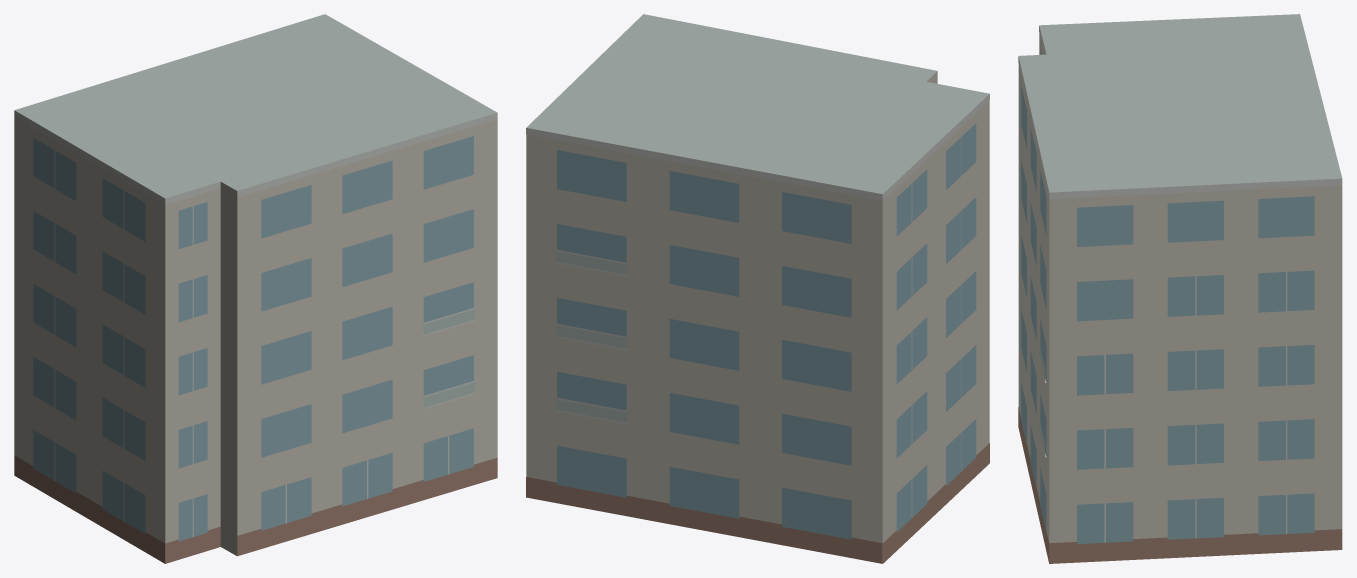
File: survey-upis-32665353.glb
The picture shows the model from 3 angles, left to right: view 1: azimuth 30°, elevation 25°; view 2: azimuth 150°, elevation 25°; view 3: azimuth 270°, elevation 25°; orthographic projection.
Parts seen in each view (by area): view 1: survey-upis-32665353.tmp; view 2: survey-upis-32665353.tmp; view 3: survey-upis-32665353.tmp.
Boxes of the visible parts, x1,y1,x2,y2 form: survey-upis-32665353.tmp: (14,14,497,563); survey-upis-32665353.tmp: (526,14,989,563); survey-upis-32665353.tmp: (1018,14,1342,563).
Bounding box in the file's own units: 14.03 × 13.6 × 10.76.
